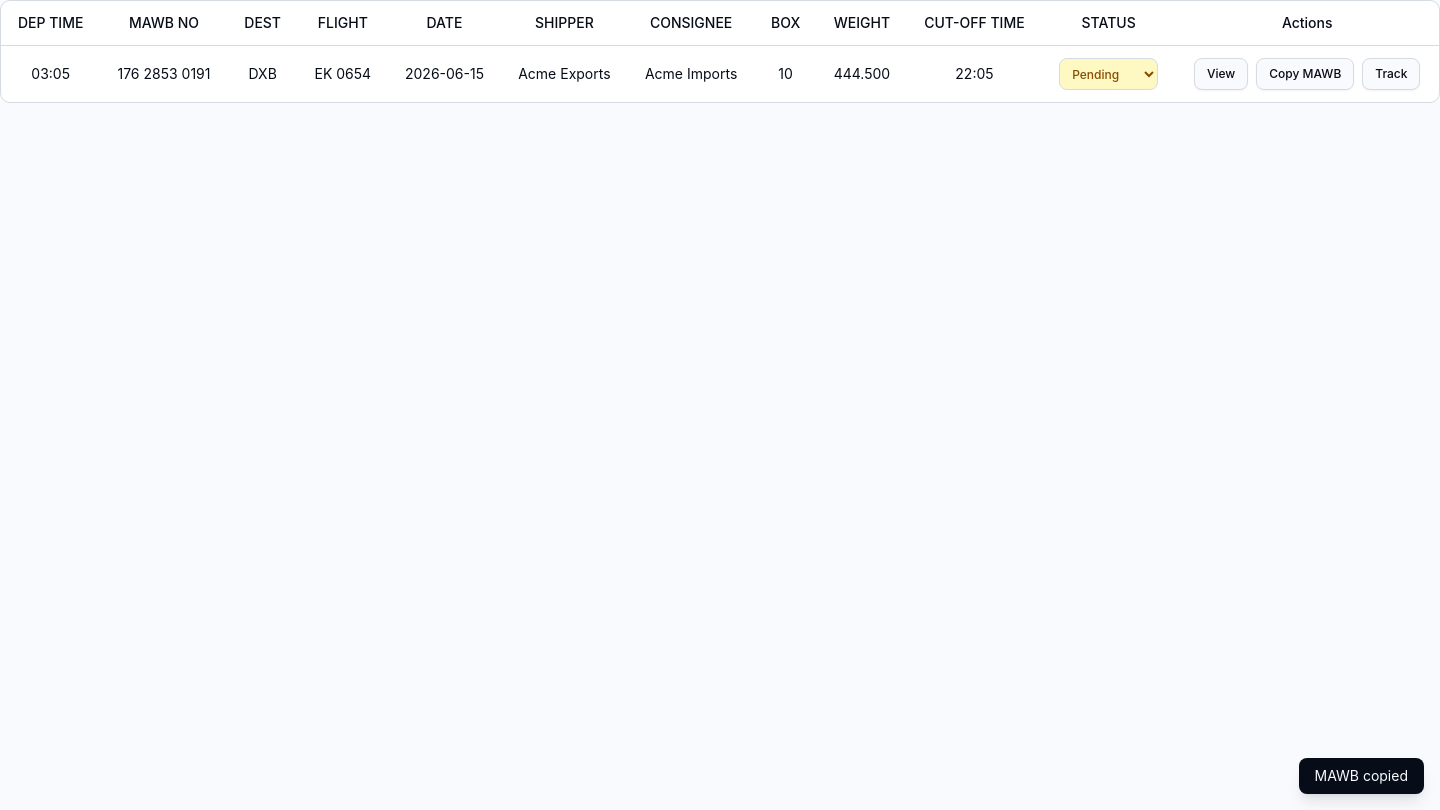
Test case: ScheduleGrid › status change › picking Departed with no actualDepartureAt yet prompts for a timestamp before submitting
Select "Departed" in the dropdown at (1109, 74), box top-left (1059, 58), bottom-right (1158, 90)
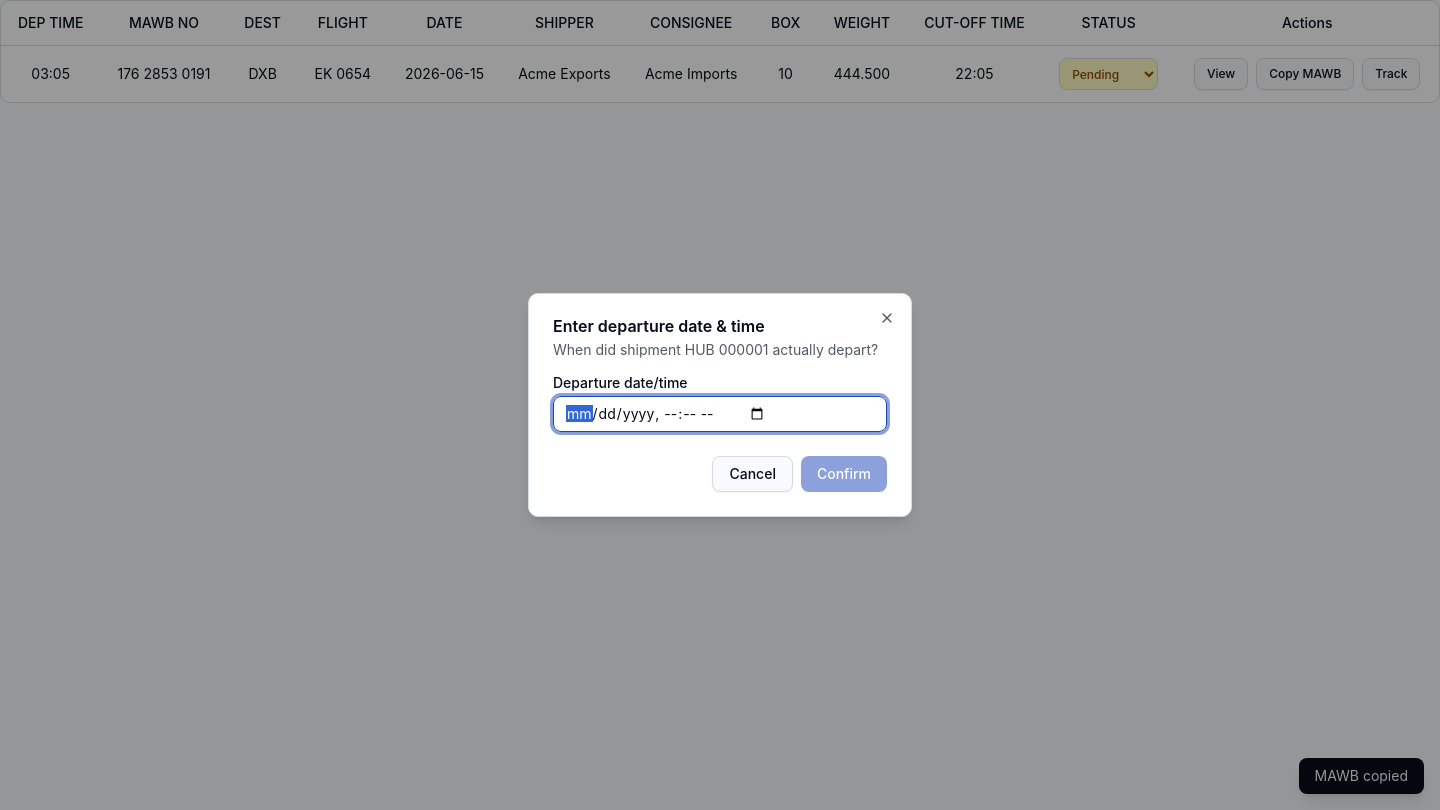
Check: the heading "Enter departure date & time" is shown, box top-left (553, 316), bottom-right (765, 336)
Check: the button "Confirm" is disabled, box top-left (801, 456), bottom-right (887, 492)
